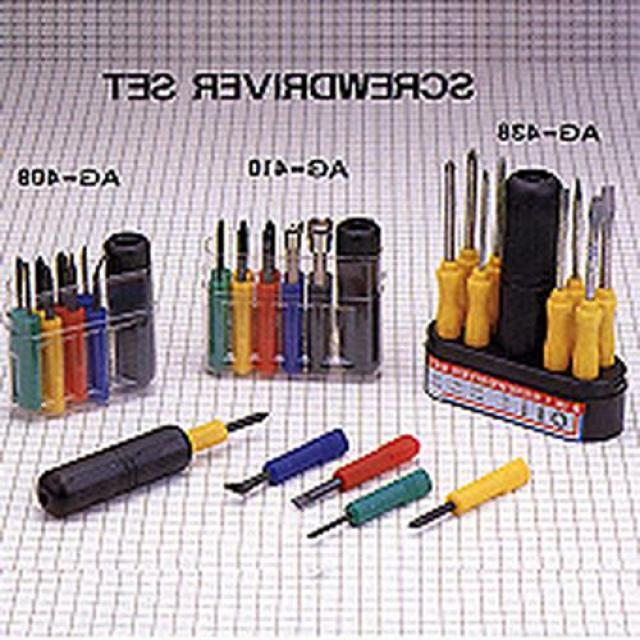screwdriver: (34, 379, 278, 514), (290, 462, 426, 546), (403, 459, 538, 538)
